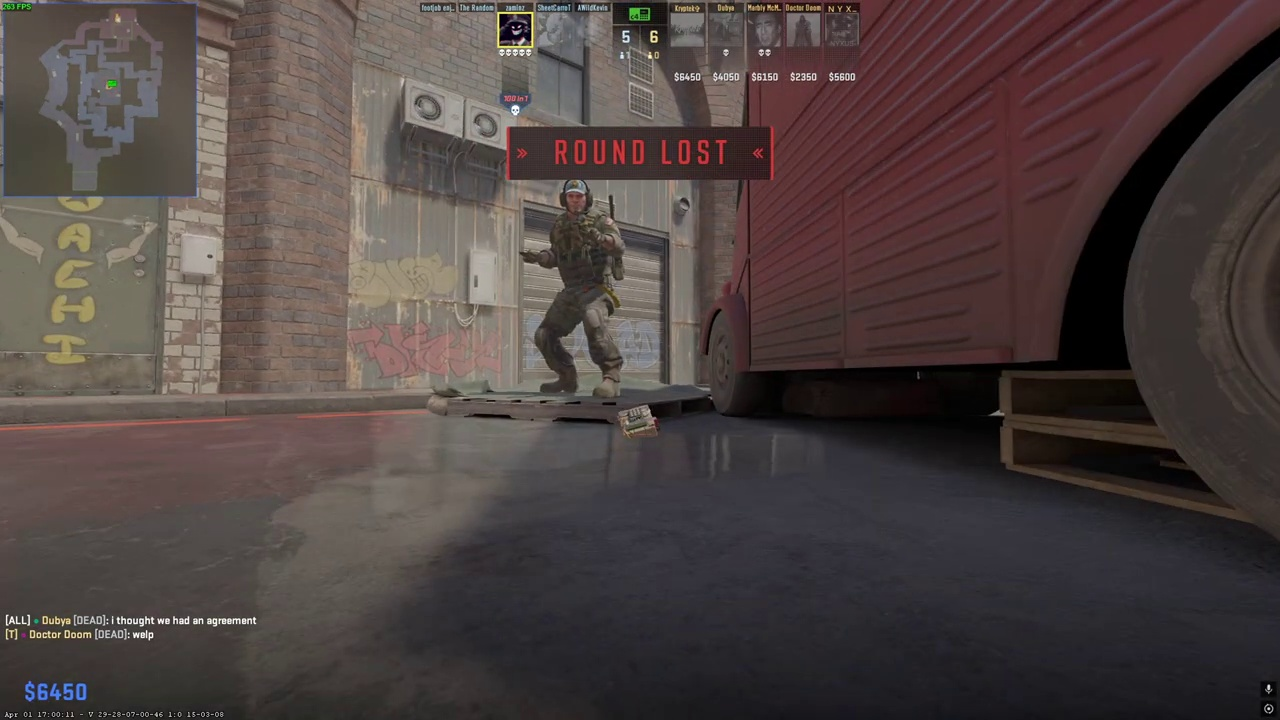CT: (531, 177, 625, 406)
